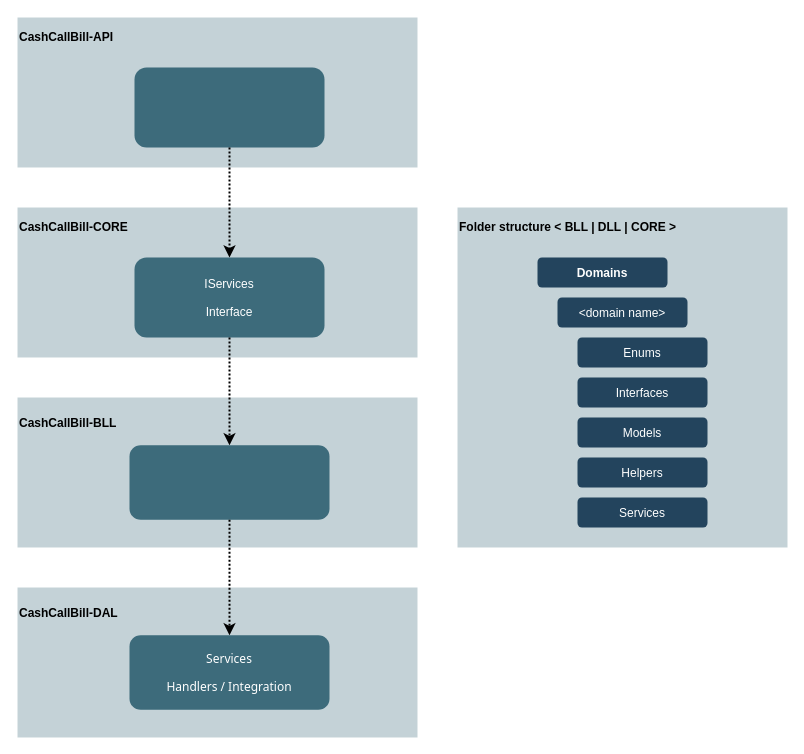
Image size: 804x754. Some labels were removed from this diagram. The box of each missing label's shape, as (x1, y1, x2, y2) in pixels:
API Function Triggers (http, queue): (134, 67, 324, 147)
Services Handlers / Domain Logic: (129, 445, 329, 519)
